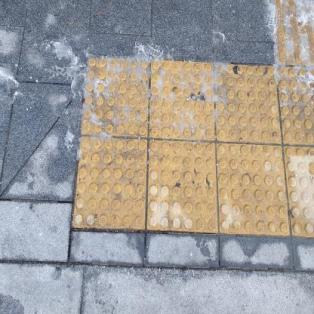Podoctatil: (69, 0, 313, 247)
